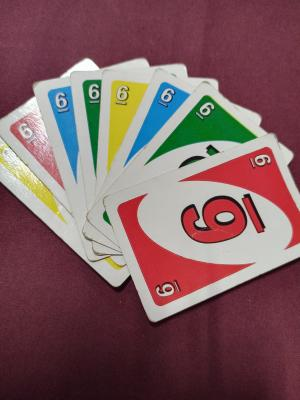num_6: (13, 117, 42, 150), (154, 83, 181, 112), (152, 277, 183, 300), (50, 88, 74, 117), (192, 96, 217, 123), (246, 146, 273, 170), (113, 79, 133, 111), (85, 78, 105, 107)
